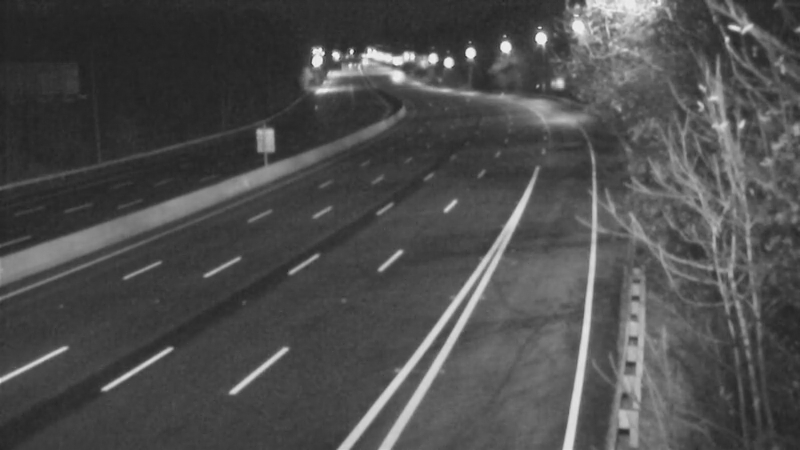vehicle: (367, 54, 417, 104)
